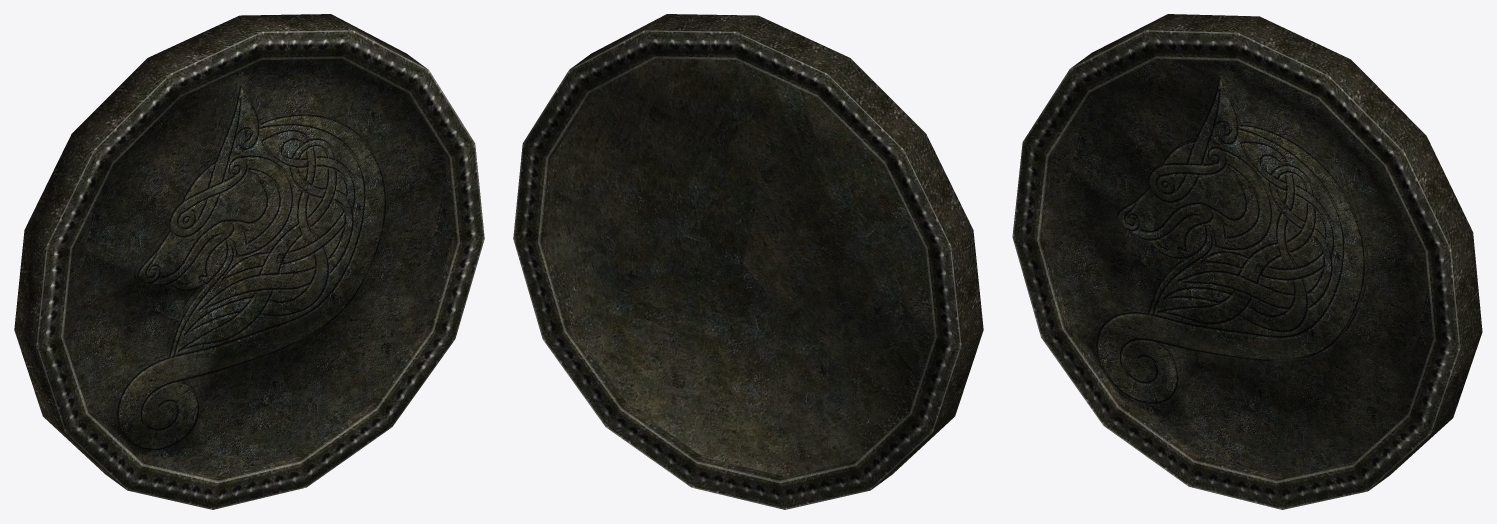
File: KM_VOLFZACK_TOMB_KEY_WHOLE.glb
The picture shows the model from 3 angles, left to right: view 1: azimuth 30°, elevation 25°; view 2: azimuth 150°, elevation 25°; view 3: azimuth 330°, elevation 25°; orthographic projection.
Visible parts, largest first — view 1: Mesh; view 2: Mesh; view 3: Mesh.
Boxes of the visible parts, bbox=[...] form: Mesh: bbox=[14, 14, 484, 509]; Mesh: bbox=[513, 14, 983, 509]; Mesh: bbox=[1012, 14, 1482, 509].
Size of the model in its own units: 0.4166 by 0.4146 by 0.0357.
Materials: 2 (2 with a texture image).
